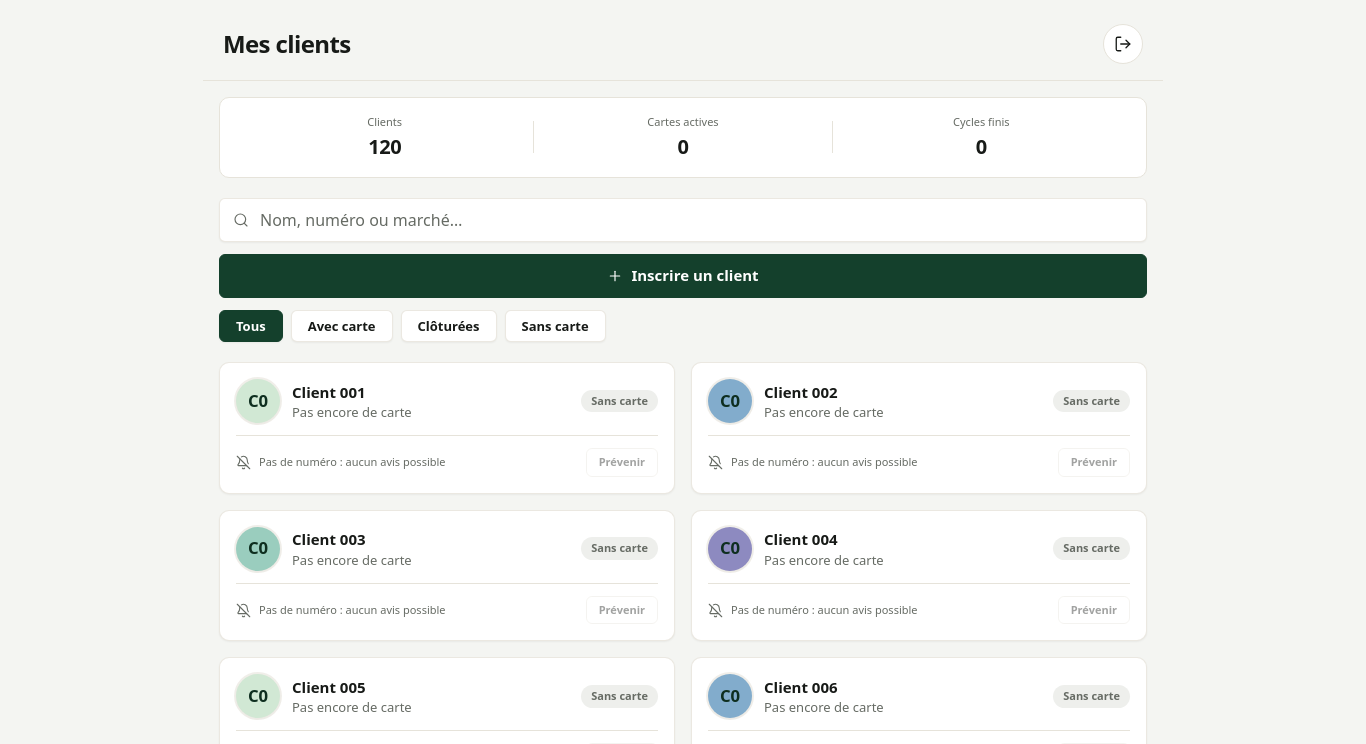
pagination de la liste › compte tous les clients trouves, et non ceux de la page
The width and height of the screenshot is (1366, 744).
Expected: the text "Client 001" is shown, top-left (292, 382), bottom-right (366, 402)
In the field named "Rechercher un client": (683, 220) top-left (219, 198), bottom-right (1147, 242), type "Client 0"
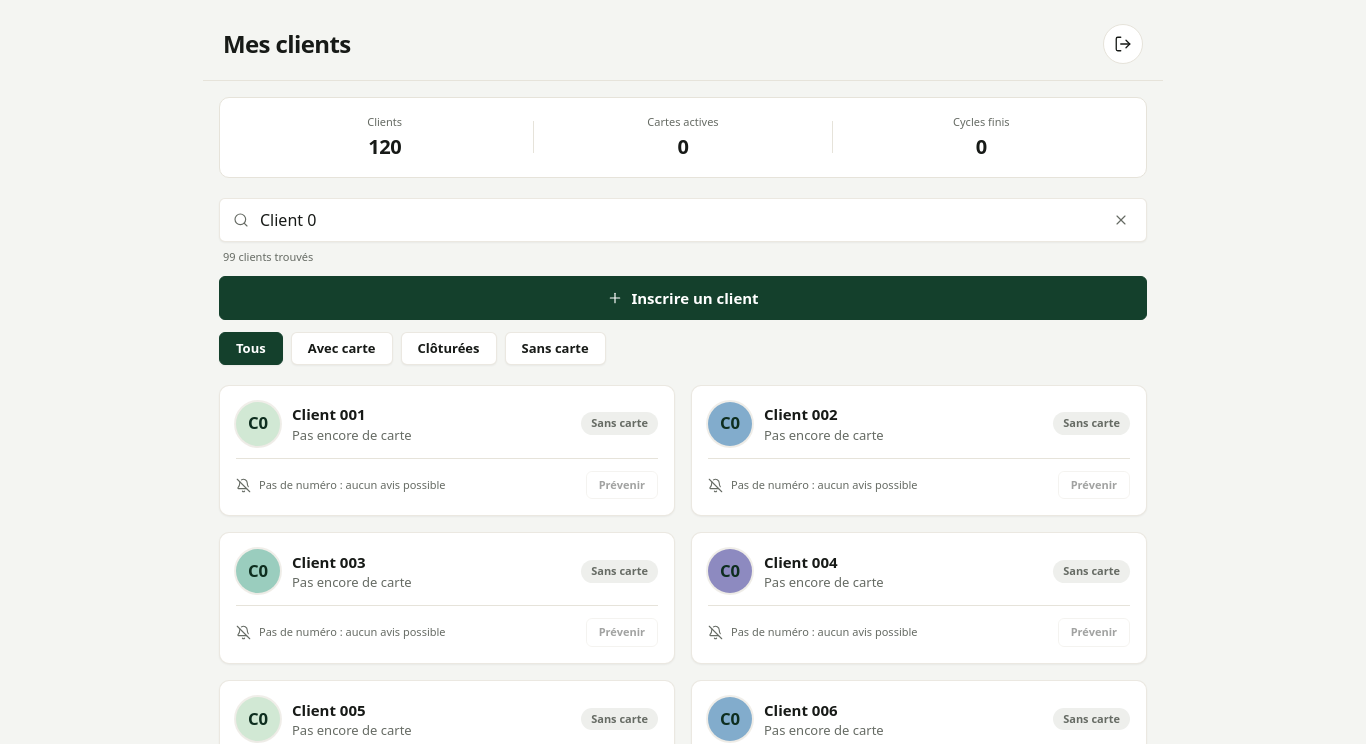
Expected: the text "99 clients trouvés" is shown, top-left (223, 248), bottom-right (313, 264)
